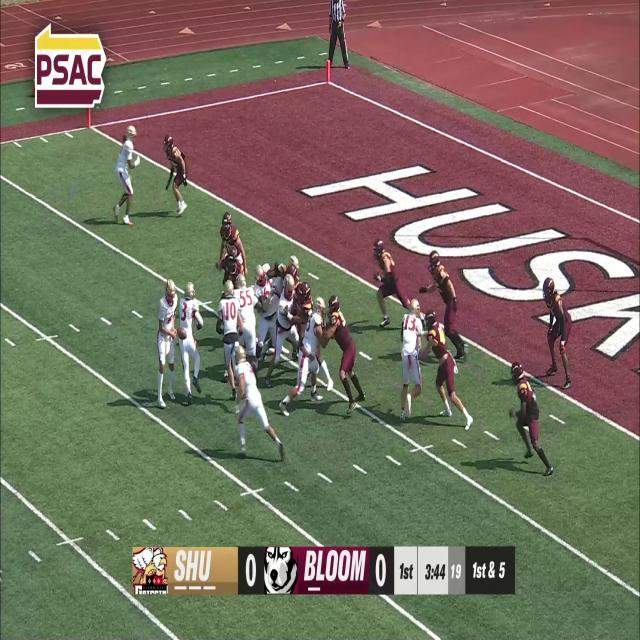football: (176, 326, 187, 342)
